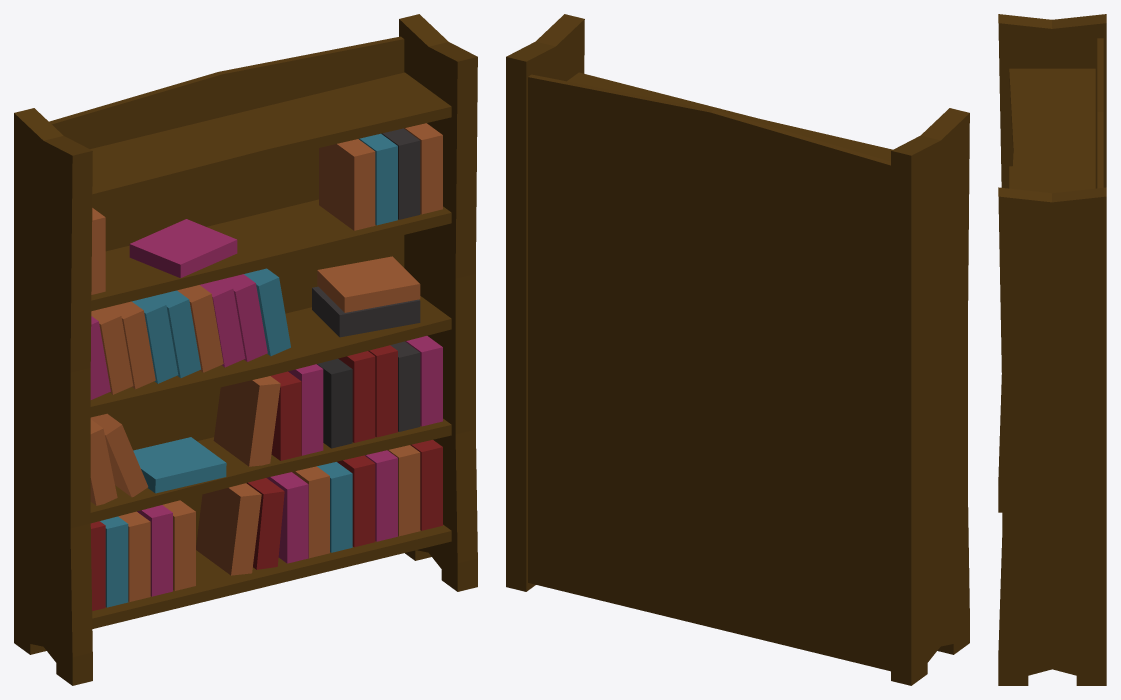
File: Library.fbx
3 renders of one model, left to right at view 1: azimuth 30°, elevation 25°; view 2: azimuth 150°, elevation 25°; view 3: azimuth 270°, elevation 25°, orthographic. The views are drawn at different scales.
Parts seen in each view (by area): view 1: library-books; view 2: library-books; view 3: library-books.
Part boxes in pixels (<box>): library-books: <box>14,14,477,685</box>; library-books: <box>506,14,969,685</box>; library-books: <box>998,14,1106,685</box>.
Bounding box in the file's own units: 200 × 250 × 50.
